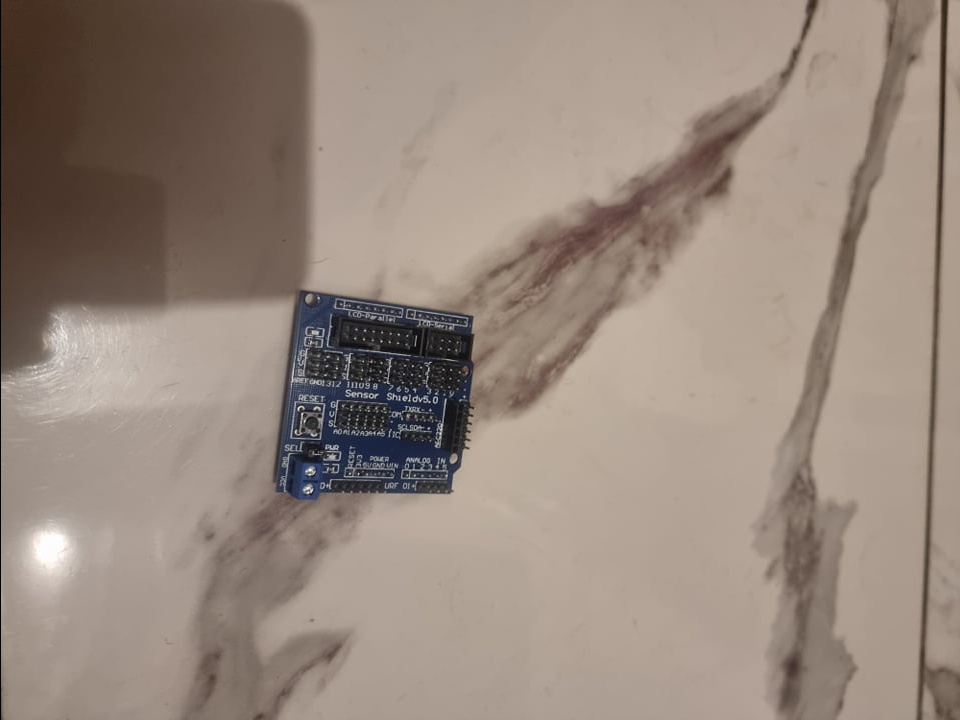5V EXPANSION: (266, 290, 472, 499)
